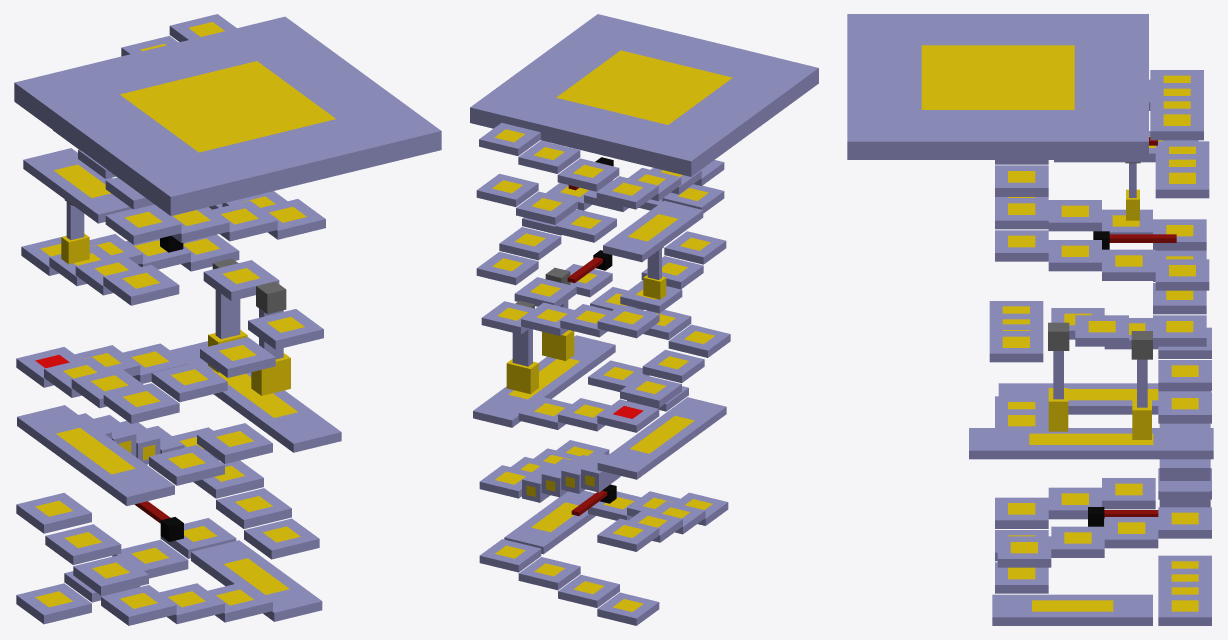
The model's file is bigben.glb.
3 renders of one model, left to right at view 1: azimuth 30°, elevation 25°; view 2: azimuth 150°, elevation 25°; view 3: azimuth 270°, elevation 25°, orthographic. The views are drawn at different scales.
Visible parts, largest first — view 1: MovingStep.019, BigStep.001, BigStep.002, BigStep, BigStep.003, Step.032, Step.008, Step.022, Step.021, Step.009, Step, Step.007 (+38 smaller); view 2: MovingStep.019, BigStep.001, BigStep.002, BigStep.003, BigStep, Danger, Step.020, Step.021, Step.032, Step.043, MovingStep.009, Step (+45 smaller); view 3: MovingStep.019, BigStep.002, BigStep, BigStep.001, MovingStep.012, Step.010, Step.033, Step.012, Step.024, Step.043, Step.003, Step.006 (+43 smaller).
Part boxes in pixels (x1,y1,x2,y2): MovingStep.019: [14, 16, 441, 215]; BigStep.001: [17, 405, 174, 505]; BigStep.002: [170, 341, 341, 452]; BigStep: [191, 540, 322, 621]; BigStep.003: [23, 148, 131, 223]; Step.032: [103, 264, 179, 305]; Step.008: [45, 524, 121, 564]; Step.022: [151, 361, 227, 402]; Step.021: [103, 383, 179, 423]; Step.009: [16, 492, 91, 533]; Step: [16, 583, 91, 624]; Step.007: [73, 554, 148, 595]; MovingStep.019: [470, 14, 818, 176]; BigStep.001: [597, 397, 726, 479]; BigStep.002: [473, 335, 615, 427]; BigStep.003: [603, 200, 703, 262]; BigStep: [504, 490, 595, 554]; Danger: [597, 399, 659, 432]; Step.020: [642, 349, 704, 383]; Step.021: [668, 324, 730, 357]; Step.032: [664, 231, 726, 264]; Step.043: [476, 173, 538, 206]; MovingStep.009: [596, 176, 658, 209]; Step: [597, 592, 659, 625]; MovingStep.019: [847, 14, 1148, 159]; BigStep.002: [969, 428, 1213, 459]; BigStep: [992, 594, 1152, 625]; BigStep.001: [998, 383, 1210, 414]; MovingStep.012: [1150, 108, 1203, 140]; Step.010: [997, 536, 1051, 567]; Step.033: [1155, 259, 1209, 290]; Step.012: [1104, 517, 1158, 548]; Step.024: [989, 331, 1043, 362]; Step.043: [1155, 167, 1209, 198]; Step.003: [1158, 594, 1211, 625]; Step.006: [995, 497, 1048, 528].
Bounding box in the file's own units: 32.47 × 63.44 × 39.41.
